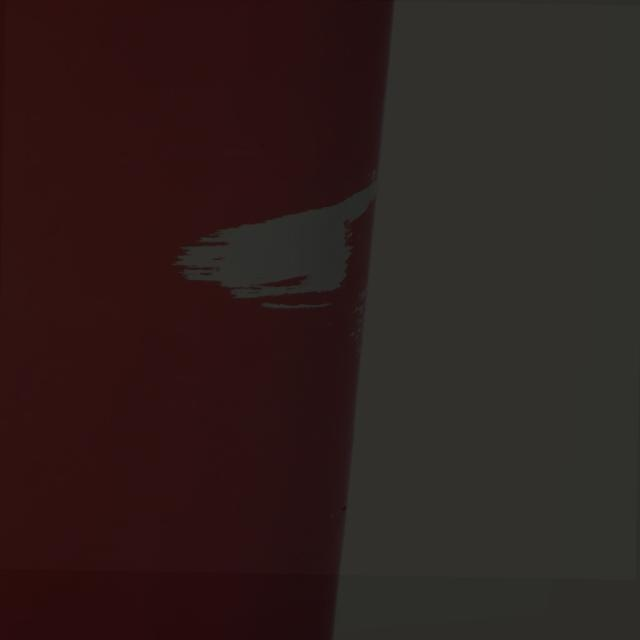surface_peeling: (168, 175, 376, 324)
